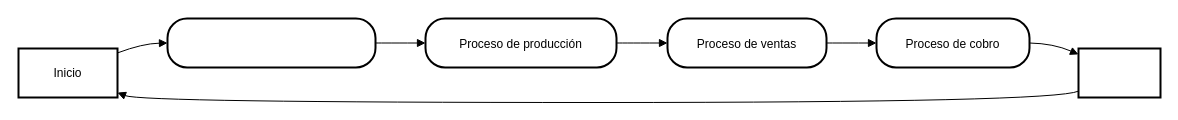
Some shapes in this 1178 by 120 pixel diagram are drawn without their labels. Here are the shapes that lost their labels. From the top down, the centre of each, then its label:
the point at 271,42: Proceso de adquisiciones
the point at 1119,72: Fin
